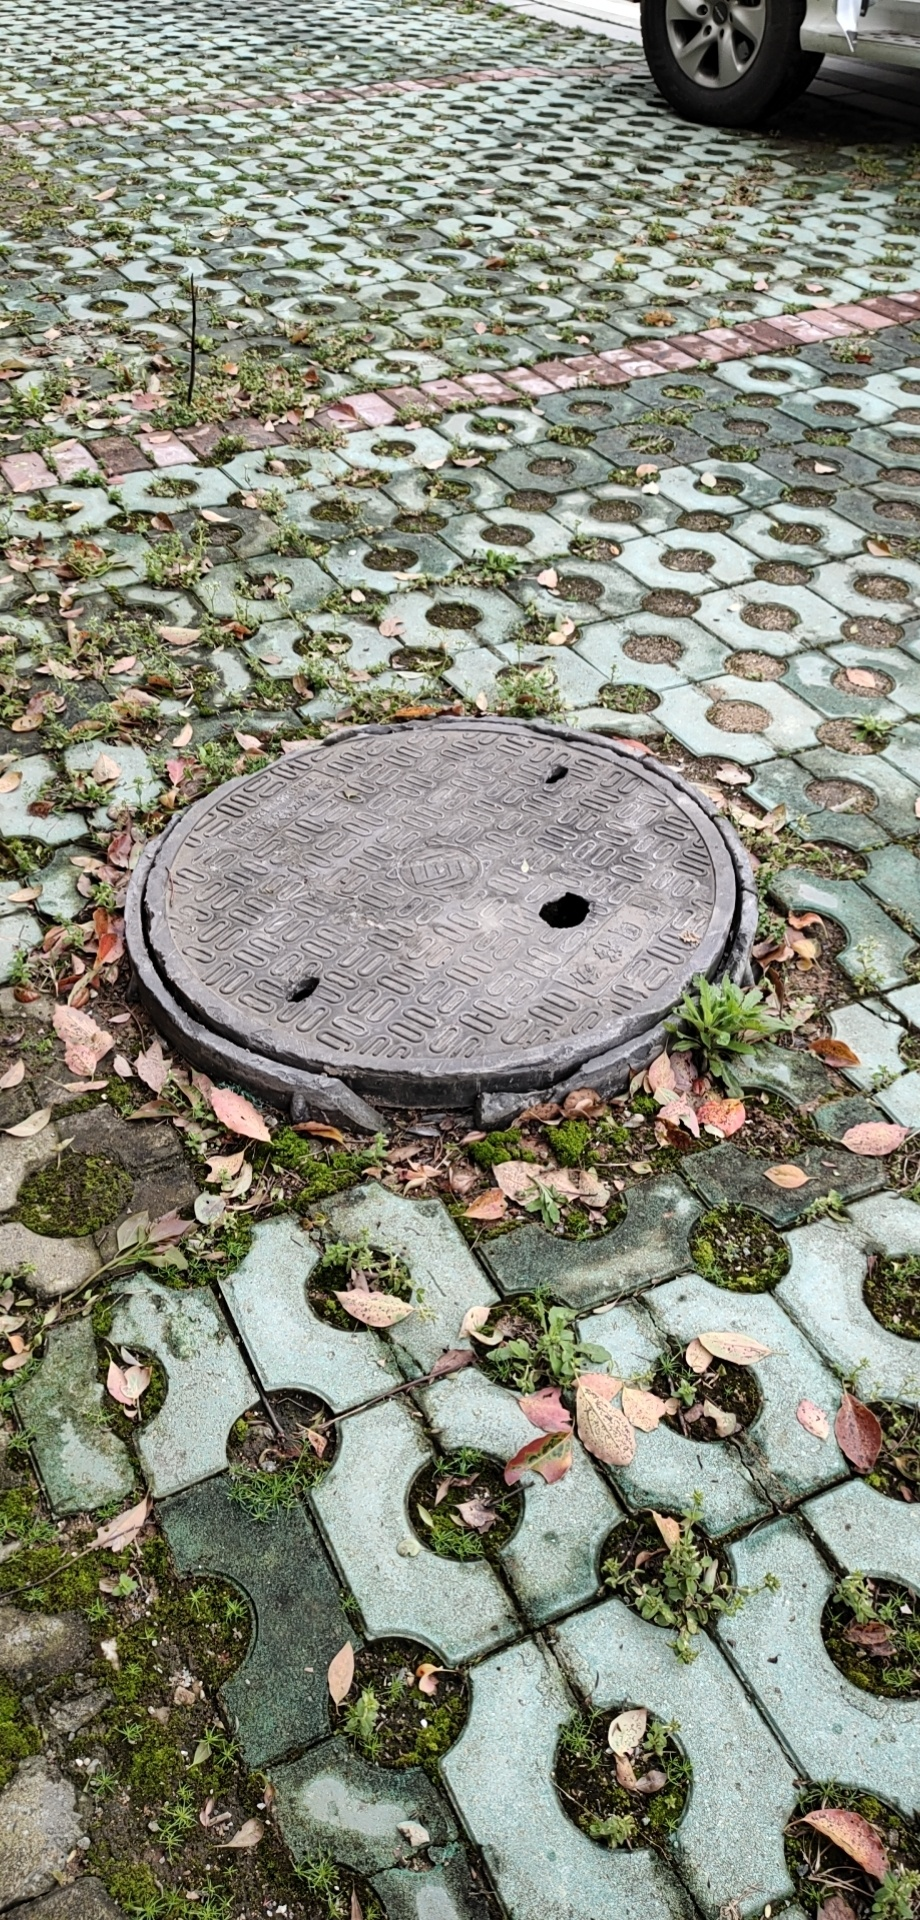broke: (123, 710, 766, 1135)
